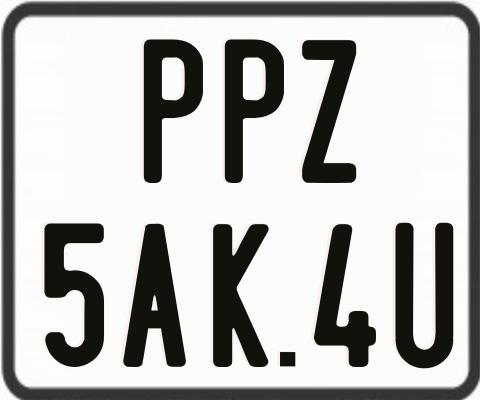4: (311, 222, 379, 366)
5: (42, 222, 102, 368)
A: (123, 224, 186, 373)
K: (210, 223, 267, 372)
P: (224, 39, 287, 186), (142, 36, 203, 180)
U: (394, 221, 452, 367)
Z: (302, 37, 357, 186)
